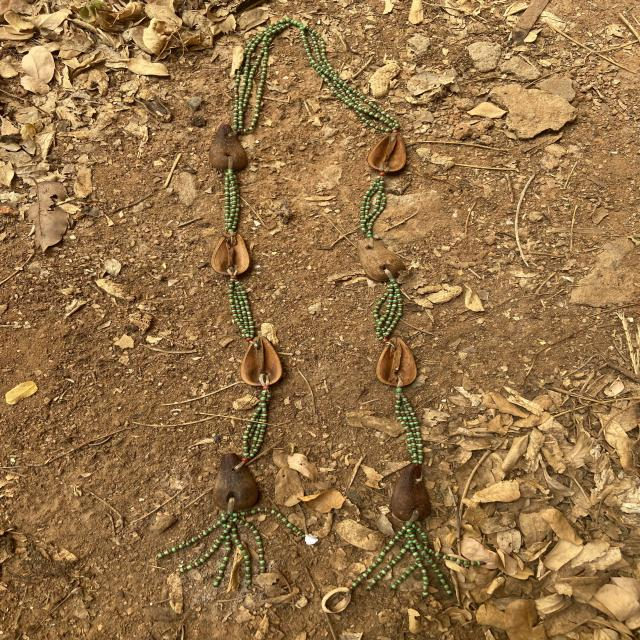facedown: (206, 447, 262, 514), (353, 232, 413, 285), (388, 461, 439, 522), (204, 119, 250, 174)
faceup: (234, 332, 286, 389), (373, 331, 421, 390), (364, 126, 412, 180), (209, 228, 254, 282)
